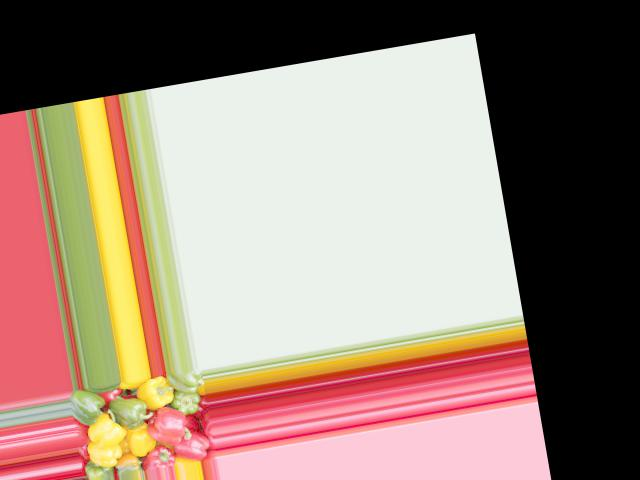bell_pepper: (85, 459, 117, 480)
